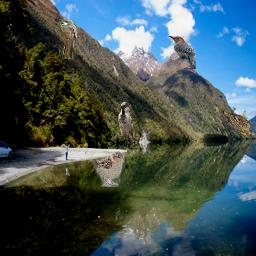Cuckoo: (59, 19, 77, 59)
Sparrow: (85, 151, 125, 187), (215, 107, 255, 136), (118, 101, 133, 141)
Woodpecker: (167, 35, 196, 69)
